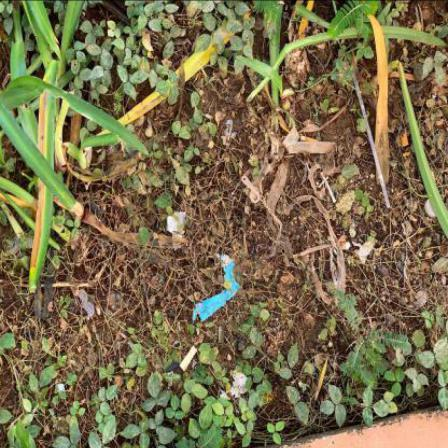Bottle cap: (425, 199, 437, 218)
Cigarette: (180, 346, 198, 373), (401, 130, 410, 147), (301, 135, 320, 141)
Other plastic: (79, 289, 96, 322), (243, 176, 261, 204)
Paper: (194, 255, 241, 322)
Plastic bag - wrapper: (168, 213, 187, 240)
Straw: (352, 69, 392, 209)
Unlabeled litter: (284, 126, 336, 154), (231, 366, 247, 399), (322, 173, 338, 203), (222, 121, 233, 146), (58, 386, 66, 392)
